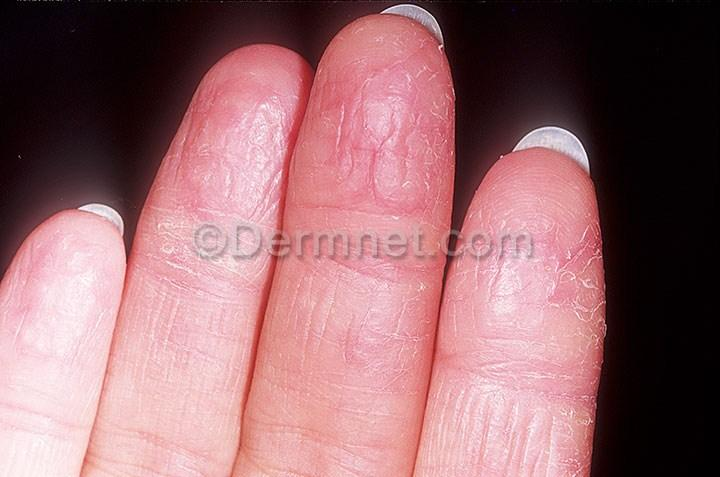Eczema: (329, 71, 425, 143), (255, 317, 331, 395), (290, 285, 370, 359), (526, 273, 591, 364), (430, 377, 497, 465), (280, 186, 345, 273), (476, 327, 549, 404), (144, 202, 216, 268), (326, 358, 398, 421), (331, 188, 399, 254), (365, 323, 426, 396), (211, 214, 272, 283), (314, 135, 379, 199), (466, 243, 521, 318), (494, 397, 550, 467), (171, 326, 246, 378), (162, 158, 230, 212), (176, 256, 224, 330), (114, 323, 181, 376), (229, 152, 278, 224), (508, 157, 575, 209), (397, 272, 439, 354), (391, 205, 443, 270), (391, 142, 435, 217), (134, 270, 189, 327), (353, 248, 401, 313), (416, 76, 459, 148), (546, 420, 599, 477), (236, 107, 294, 159), (32, 273, 82, 333), (445, 259, 473, 366), (36, 335, 88, 392), (523, 213, 570, 275), (355, 20, 407, 75), (252, 49, 312, 96), (207, 58, 261, 110), (220, 281, 269, 338), (34, 220, 87, 271), (304, 81, 341, 154), (567, 181, 605, 252), (193, 104, 244, 156), (275, 269, 319, 328), (72, 208, 121, 260), (567, 258, 608, 320), (473, 178, 518, 233), (0, 340, 38, 403), (551, 363, 590, 422), (78, 259, 119, 315), (77, 300, 111, 366), (282, 133, 317, 196), (0, 279, 32, 342), (9, 246, 55, 289), (404, 28, 443, 78), (329, 42, 376, 83), (436, 154, 455, 232), (584, 322, 608, 367)
